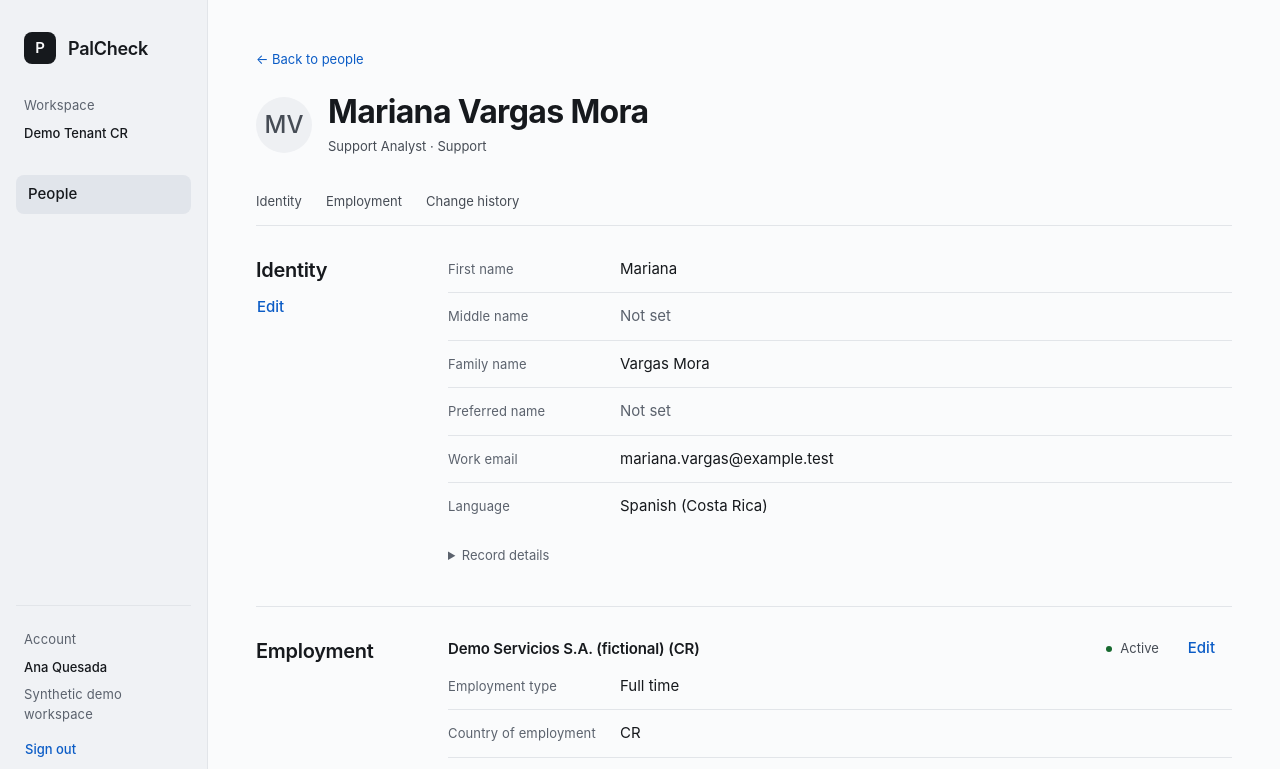
Person detail › editing employment and assignment › edits employment with its own revision, leaving the assignment alone
Step 1. Click the button with aria-label "Edit employment" → (1201, 649), box [1171, 631, 1232, 667]
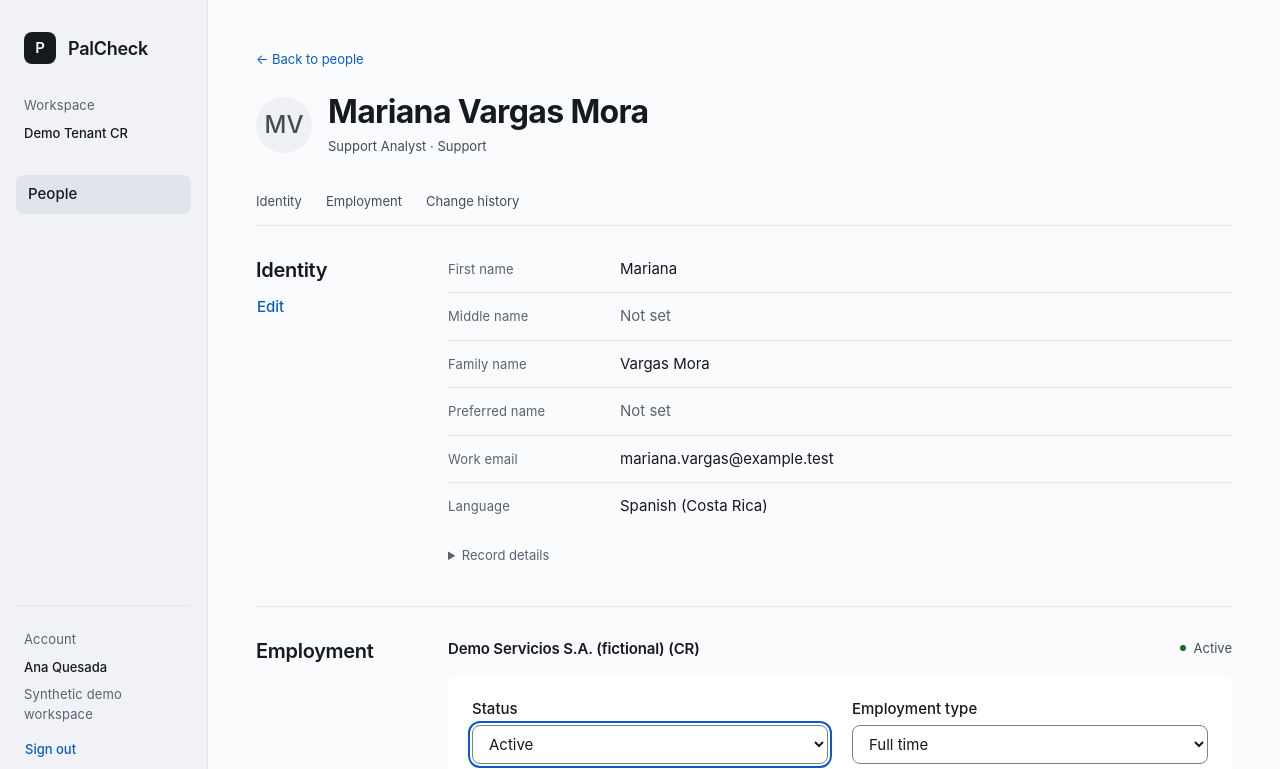
Step 2. Select "Part time" in the dropdown labelled "Employment type" → (1030, 744), box [852, 725, 1208, 764]
(page scrolled)
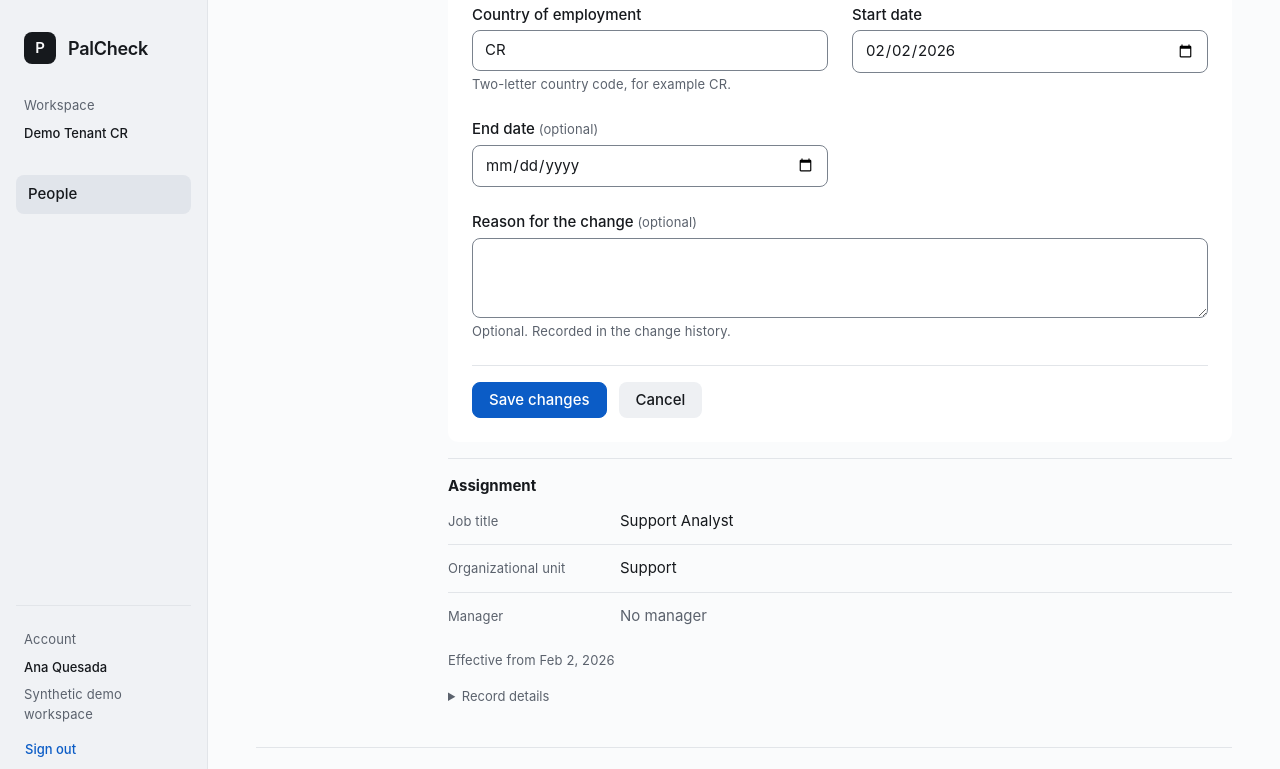
Step 3. Click the button "Save changes" → (539, 400), box [472, 382, 606, 418]
(page scrolled)
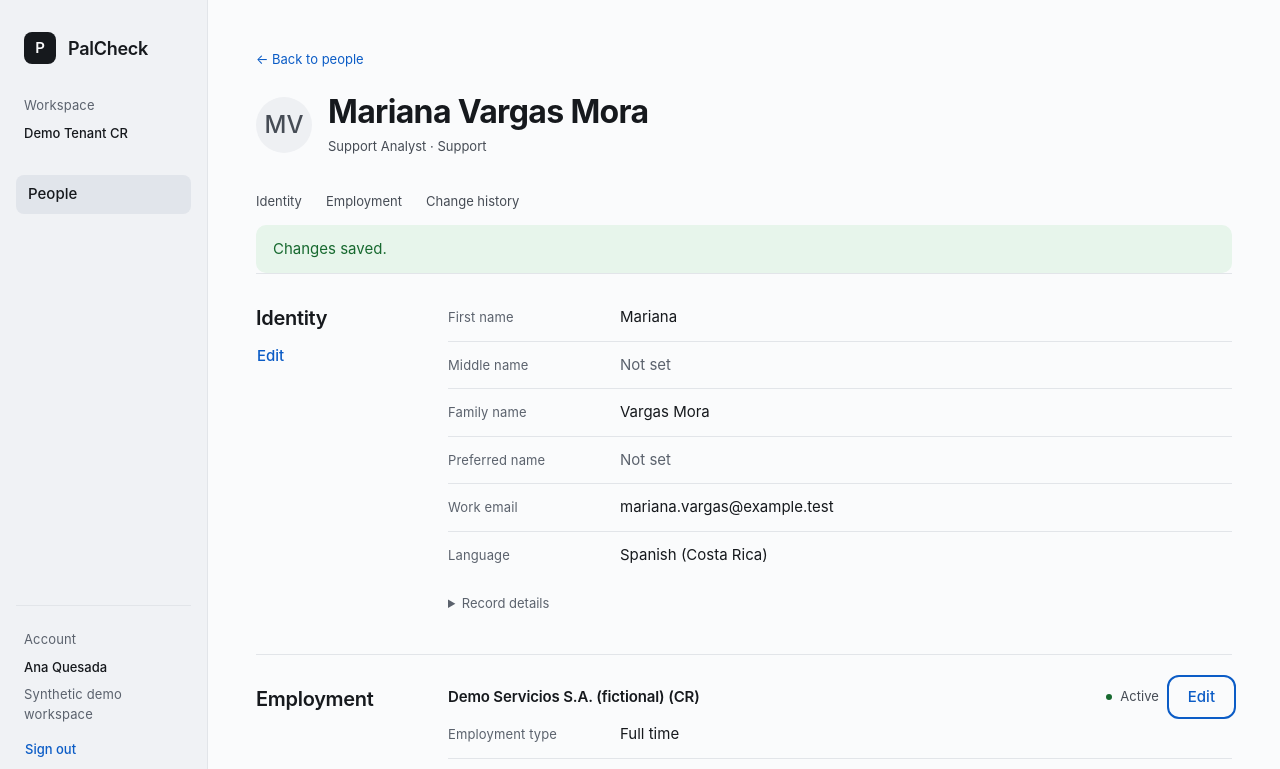
Now the text "Changes saved." is shown, box [256, 225, 1232, 273]
